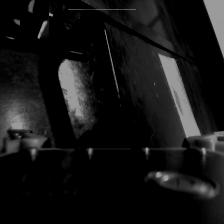Door Handle: (68, 9, 136, 142)
Lock: (16, 0, 53, 38)
